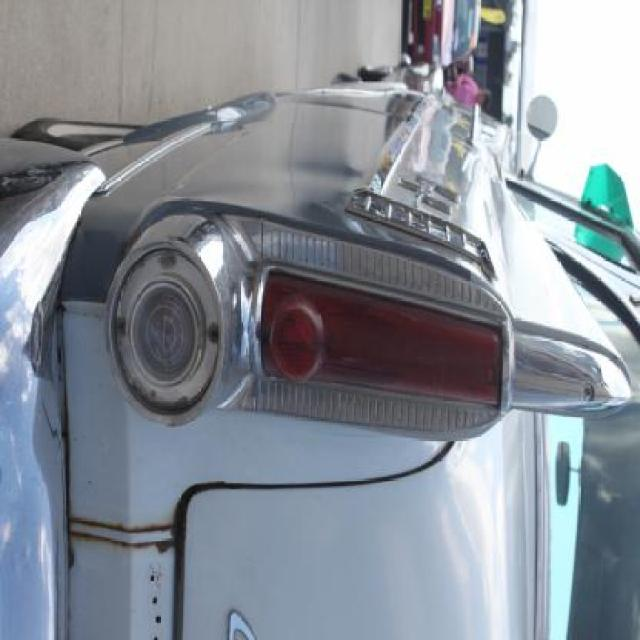Car: (0, 68, 640, 640), (406, 0, 482, 68)
